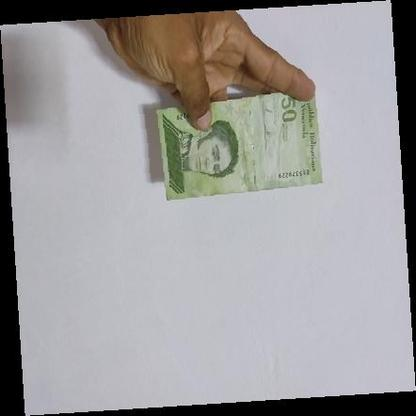fifty-front-vef: (156, 85, 322, 201)
